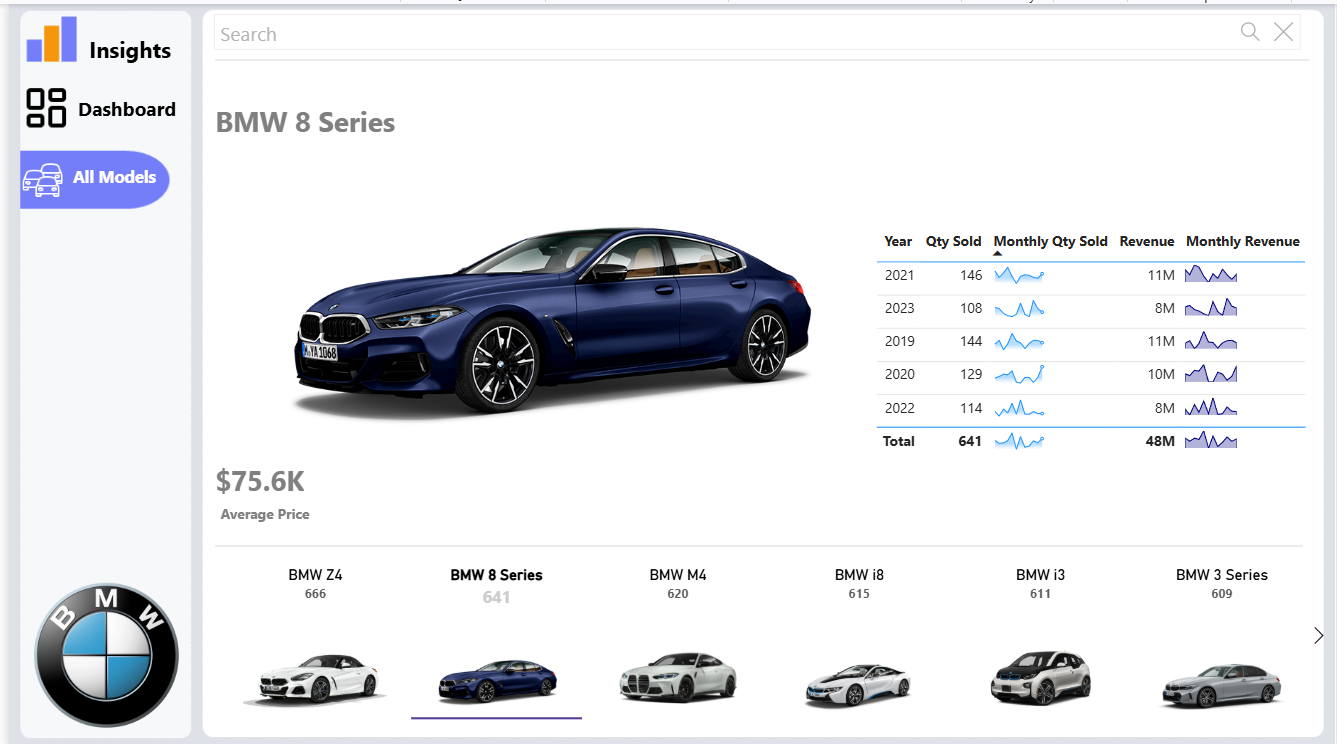

Layout of this report page (visuals, bound fields, positions):
{"tool":"powerbi","page":{"name":"All Models","canvas":[1280,720],"ordinal":2},"visuals":[{"type":"textSearchSlicerF85E2E78BE4A4D7D9F99ED75B5D71C85","fields":{"fields":["Dim_Model.Model"]},"box":[188.2,0,1068.8,59.3],"z":0},{"type":"advancedSlicerVisual","fields":{"Values":["Dim_Model.Model"]},"box":[188.2,523.6,1091.8,172.5],"z":1000},{"type":"advancedSlicerVisual","fields":{"Values":["Dim_Model.Model"]},"box":[188.2,59.1,663.5,464.5],"z":2000},{"type":"shape","box":[199.1,59.1,440.4,105],"z":3000},{"type":"shape","box":[179.8,424.7,124.3,68.8],"z":4000},{"type":"textbox","box":[199.1,477.8,113.4,31.4],"z":5000},{"type":"tableEx","fields":{"Values":["Calendar.Year","All Measures.Qty Sold","All Measures.Opaque Area Sparkline (no one value) bright","All Measures.Revenue","All Measures.Revenue Sparkline"]},"box":[831.2,211.1,425.9,237.7],"z":6000},{"type":"textbox","box":[56.7,150.8,114.6,43.4],"z":7000},{"type":"image","box":[8.4,146,48.3,48.3],"z":8000},{"type":"textbox","box":[61.5,83.2,114.6,43.4],"z":9000},{"type":"image","box":[8.4,39.8,55.5,120.6],"z":10000},{"type":"actionButton","box":[12.1,72.4,159.3,54.3],"z":11000},{"type":"actionButton","box":[11.2,143.8,158.8,52.5],"z":12000},{"type":"image","box":[0,553.8,187.5,150],"z":13000},{"type":"textbox","box":[72.5,23.8,115,42.5],"z":14000},{"type":"image","box":[0,0,82.5,63.8],"z":15000}]}

Visuals, with their boxes on the page's 1280x720 design canvas (x1, y1, x2, y2). These are canvas units, not pixel positions in the 1337x744 screenshot, which may show the page scaled, cropped or inside an application window:
textSearchSlicerF85E2E78BE4A4D7D9F99ED75B5D71C85 - Dim_Model.Model: {"left": 188, "top": 0, "right": 1257, "bottom": 59}
advancedSlicerVisual - Dim_Model.Model: {"left": 188, "top": 524, "right": 1280, "bottom": 696}
advancedSlicerVisual - Dim_Model.Model: {"left": 188, "top": 59, "right": 852, "bottom": 524}
shape: {"left": 199, "top": 59, "right": 640, "bottom": 164}
shape: {"left": 180, "top": 425, "right": 304, "bottom": 494}
textbox: {"left": 199, "top": 478, "right": 312, "bottom": 509}
tableEx - Calendar.Year x All Measures.Qty Sold: {"left": 831, "top": 211, "right": 1257, "bottom": 449}
textbox: {"left": 57, "top": 151, "right": 171, "bottom": 194}
image: {"left": 8, "top": 146, "right": 57, "bottom": 194}
textbox: {"left": 62, "top": 83, "right": 176, "bottom": 127}
image: {"left": 8, "top": 40, "right": 64, "bottom": 160}
actionButton: {"left": 12, "top": 72, "right": 171, "bottom": 127}
actionButton: {"left": 11, "top": 144, "right": 170, "bottom": 196}
image: {"left": 0, "top": 554, "right": 188, "bottom": 704}
textbox: {"left": 72, "top": 24, "right": 188, "bottom": 66}
image: {"left": 0, "top": 0, "right": 82, "bottom": 64}
